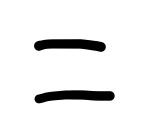eqv: (35, 39, 115, 104)
